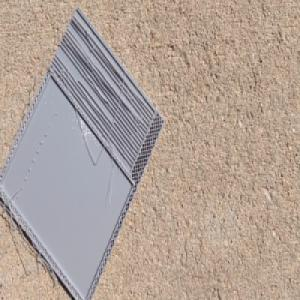PlasticPart: (0, 7, 164, 300)
